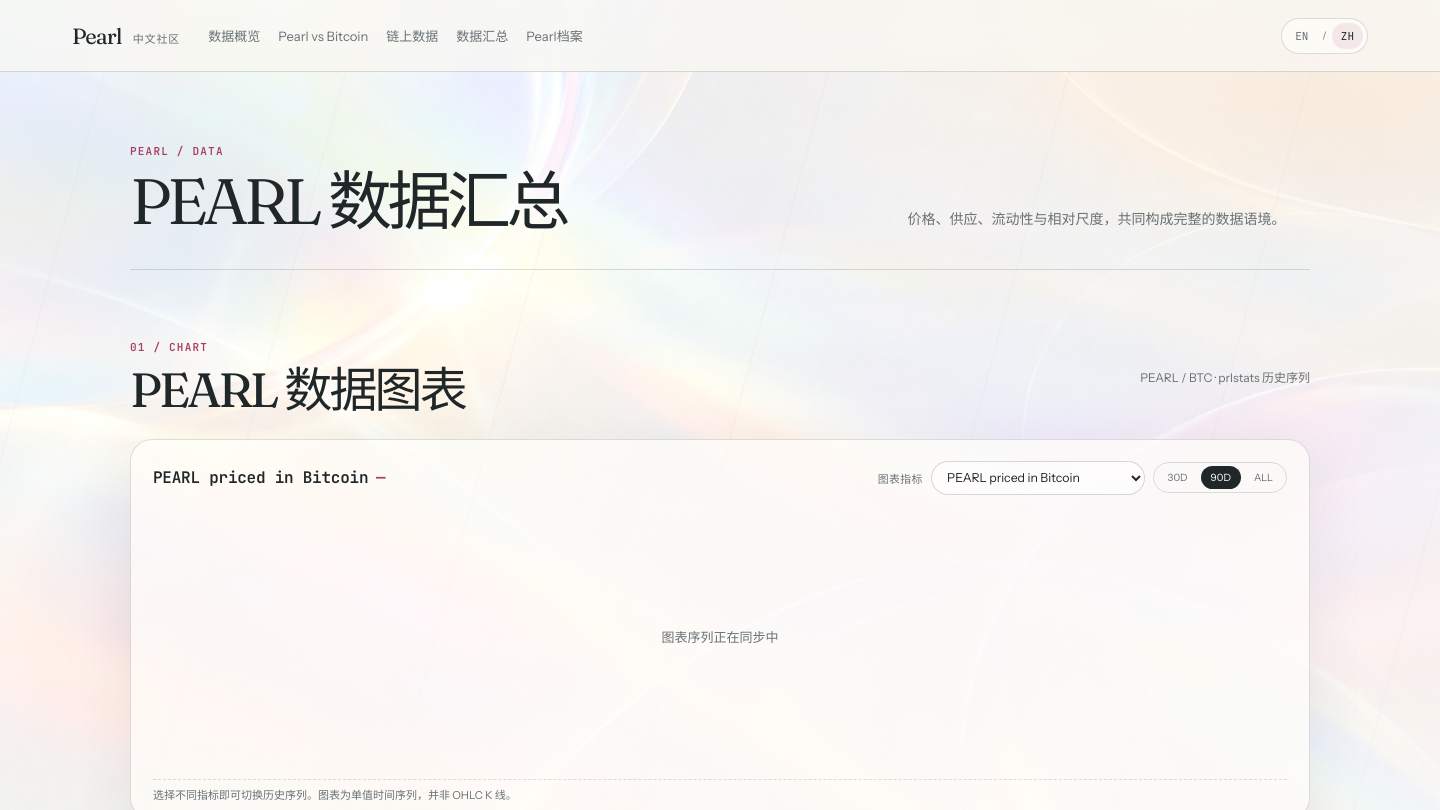
bilingual site › switches even when preference storage is unavailable
The width and height of the screenshot is (1440, 810).
Click the button with aria-label "English": (1302, 36) [1286,22,1317,48]
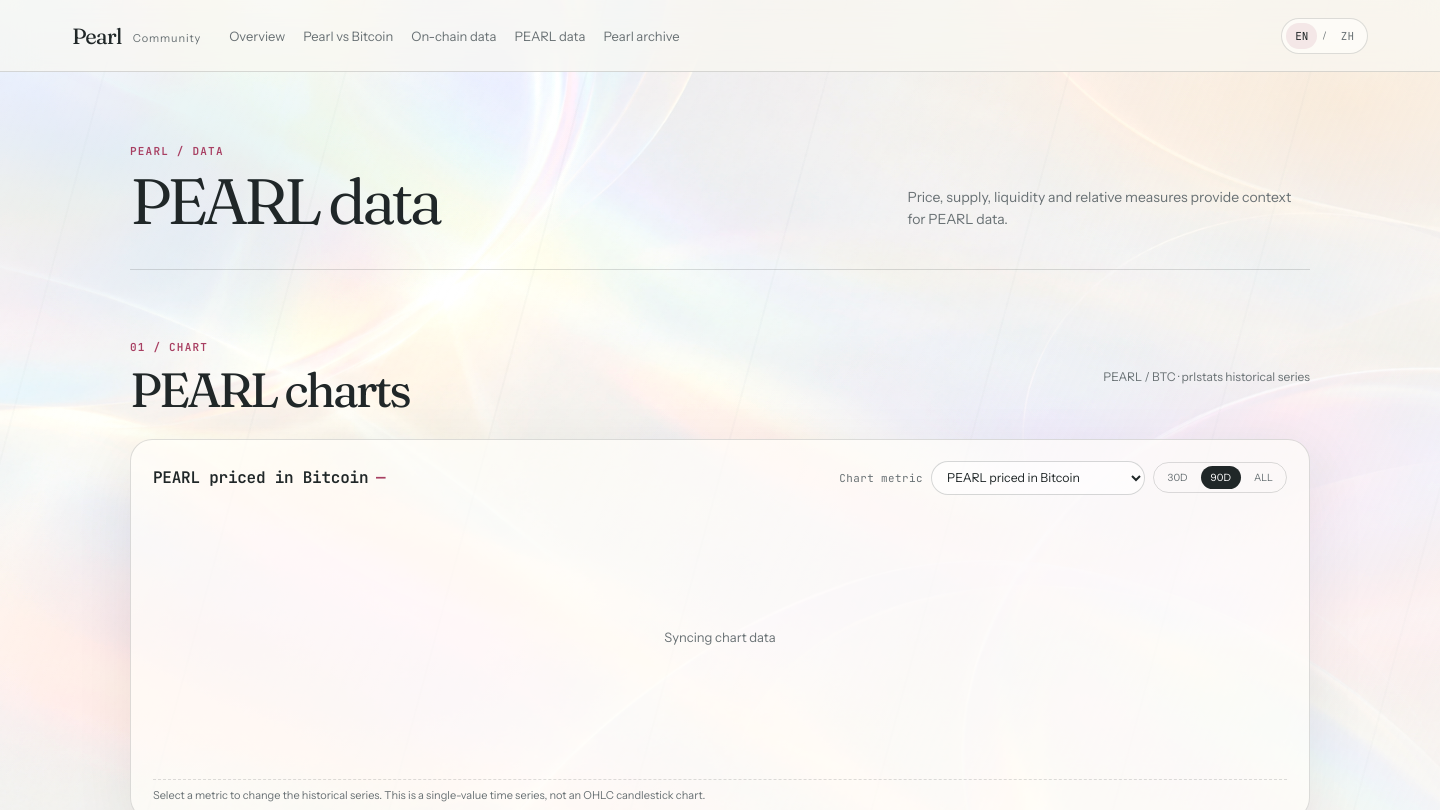
Result: the heading "PEARL data" is shown at [130,161,439,240]
